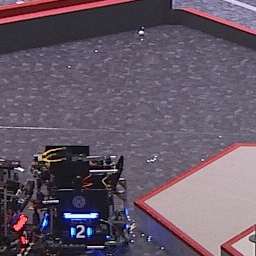Blue: (69, 225, 93, 239)
Robot: (29, 145, 135, 253), (1, 154, 30, 256)
